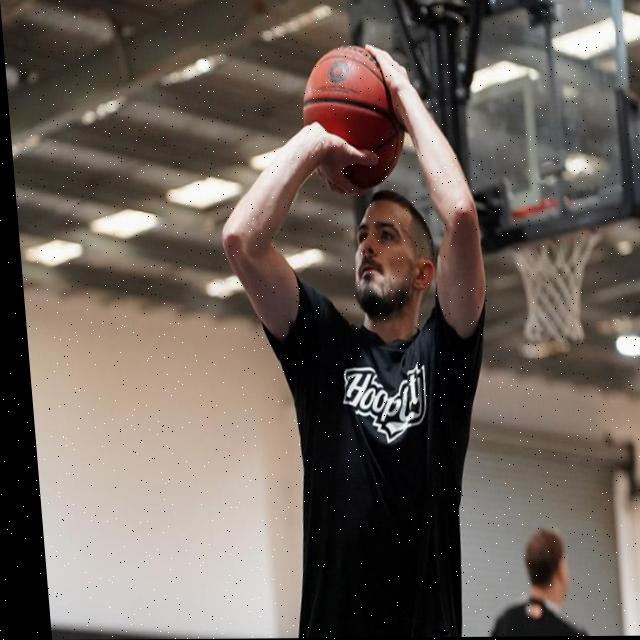basketball: (299, 47, 411, 190)
hoop: (507, 196, 611, 342)
